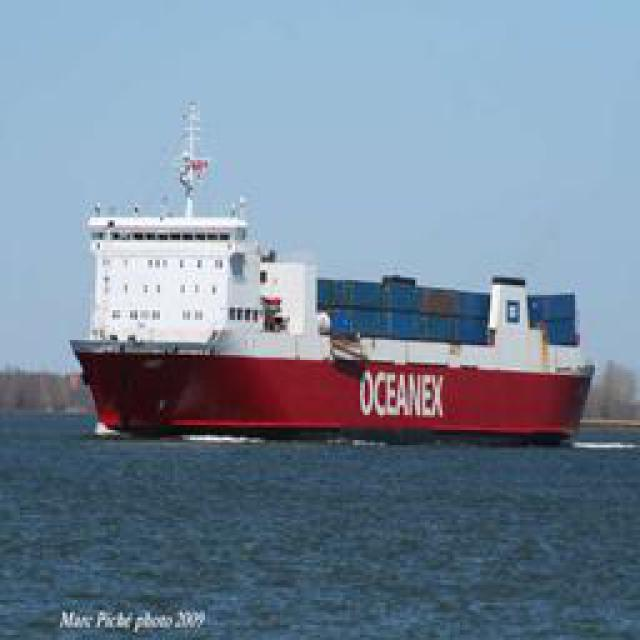Ship: (65, 89, 603, 432)
